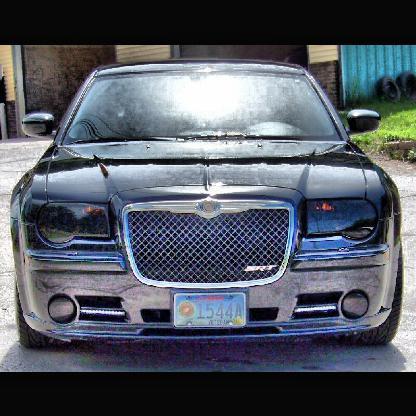Chrysler 300 SRT-8 2010: (10, 60, 406, 351)
